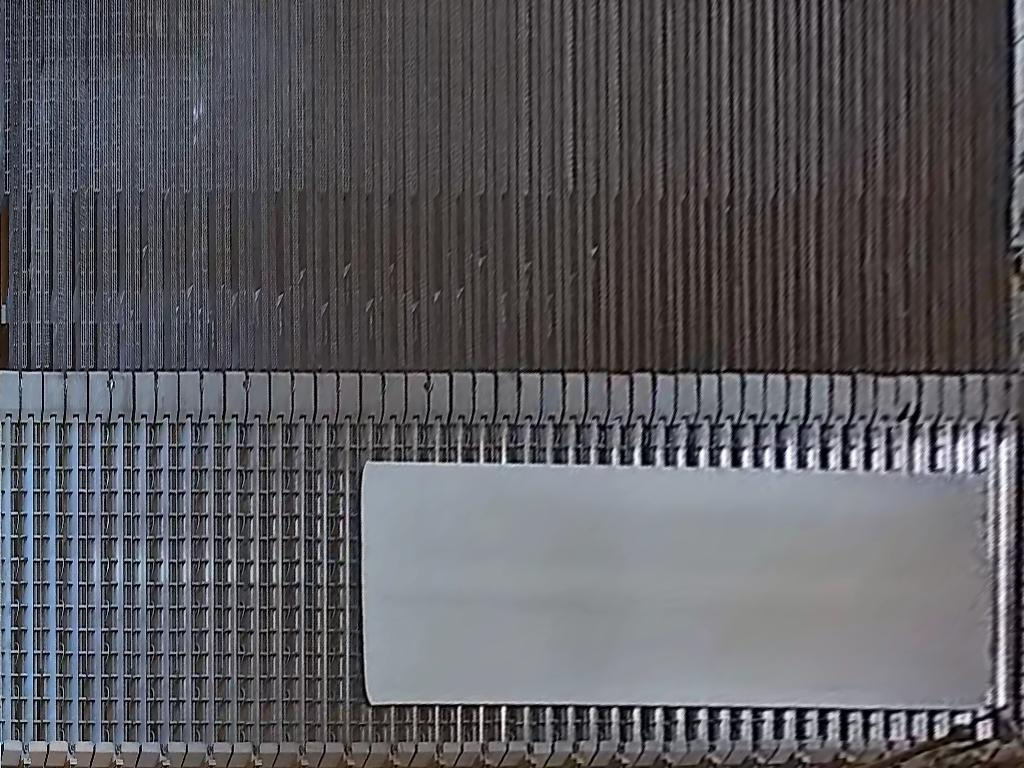steel: (361, 460, 987, 712)
